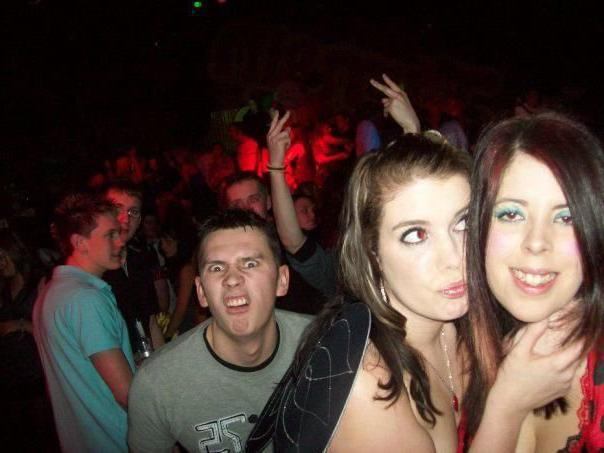Drunk: (484, 161, 582, 322), (370, 179, 473, 320), (200, 235, 278, 341)
